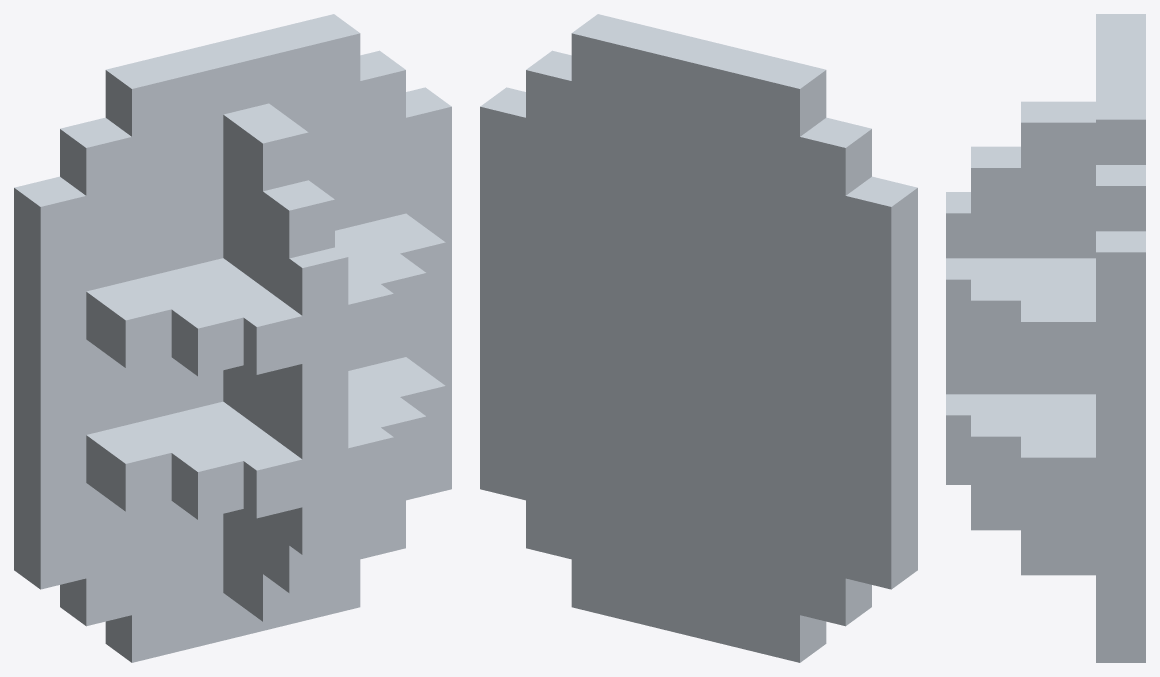
File: light_murale_socle.glb
3 views of the same model, side by side, from view 1: azimuth 30°, elevation 25°; view 2: azimuth 150°, elevation 25°; view 3: azimuth 270°, elevation 25° (orthographic). The views are drawn at different scales.
Visible parts, largest first — view 1: generated(Clone); view 2: generated(Clone); view 3: generated(Clone).
Part boxes in pixels (left/top/right/bottom): generated(Clone): left=14, top=14, right=451, bottom=662; generated(Clone): left=480, top=14, right=917, bottom=662; generated(Clone): left=946, top=14, right=1145, bottom=662.
Bounding box in the file's own units: 9 × 12 × 4.
Materials: 1 (1 with a texture image).
